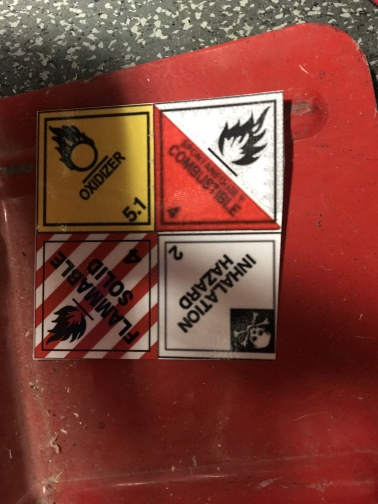FlammableSolid: (33, 231, 159, 361)
InhalationHazard: (156, 232, 283, 362)
Oxidizer: (36, 105, 157, 231)
SpontaneouslyCombustible: (154, 93, 286, 234)
